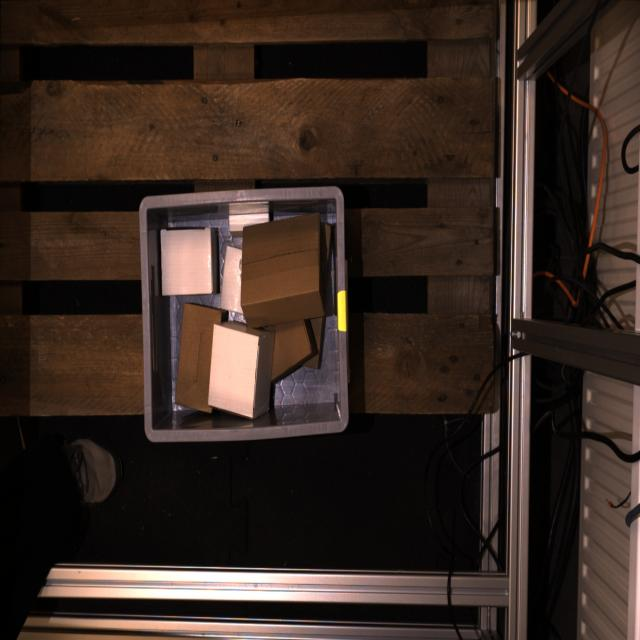CardboardBox: (208, 321, 275, 419), (174, 303, 229, 414), (160, 229, 217, 296), (262, 319, 313, 381), (302, 284, 327, 369), (220, 246, 244, 314), (228, 212, 269, 238), (321, 222, 332, 270)
